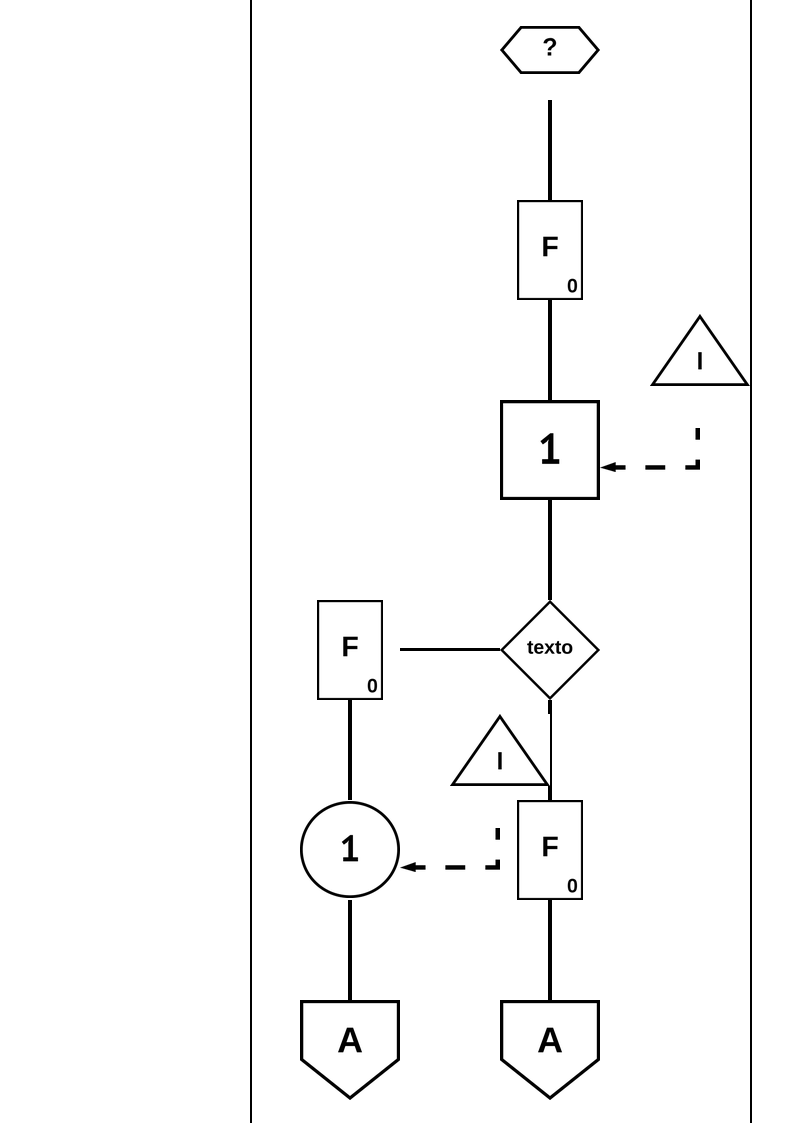archivoDefinitivo: (650, 314, 750, 386), (450, 714, 550, 786)
conector_comienzoCorte: (500, 1000, 600, 1100), (300, 1000, 400, 1100)
consultaLogica_flecha: (600, 428, 700, 472), (400, 828, 500, 872)
control: (500, 400, 600, 500)
decision: (500, 600, 600, 700)
documento: (517, 200, 583, 300), (517, 800, 583, 900), (317, 600, 383, 700)
operacion: (300, 801, 400, 898)
procesoNoRelevado: (500, 26, 600, 74)
trasladoDeInformacion_horizontal: (400, 628, 500, 671)
trasladoDeInformacion_vertical: (528, 100, 572, 200), (528, 300, 572, 400), (528, 500, 572, 600), (528, 700, 572, 800), (528, 900, 572, 1000), (328, 700, 372, 800), (328, 900, 372, 1000)
